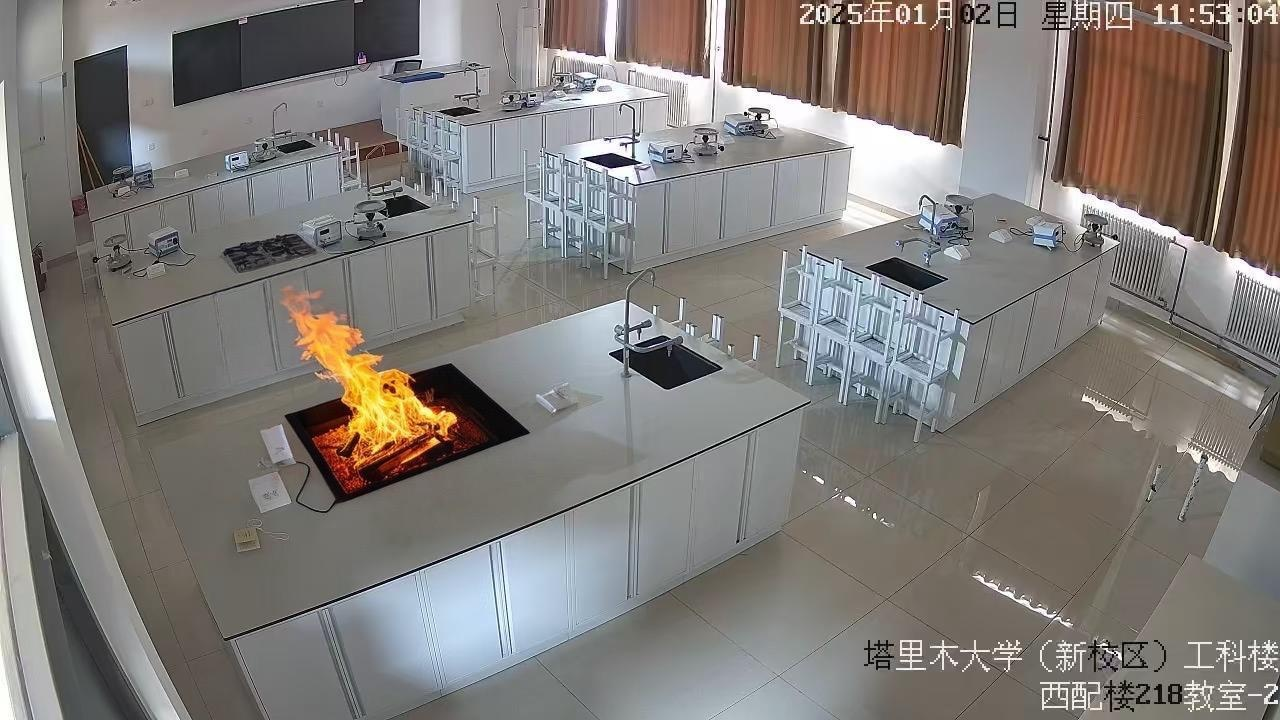fire: (264, 269, 476, 497)
